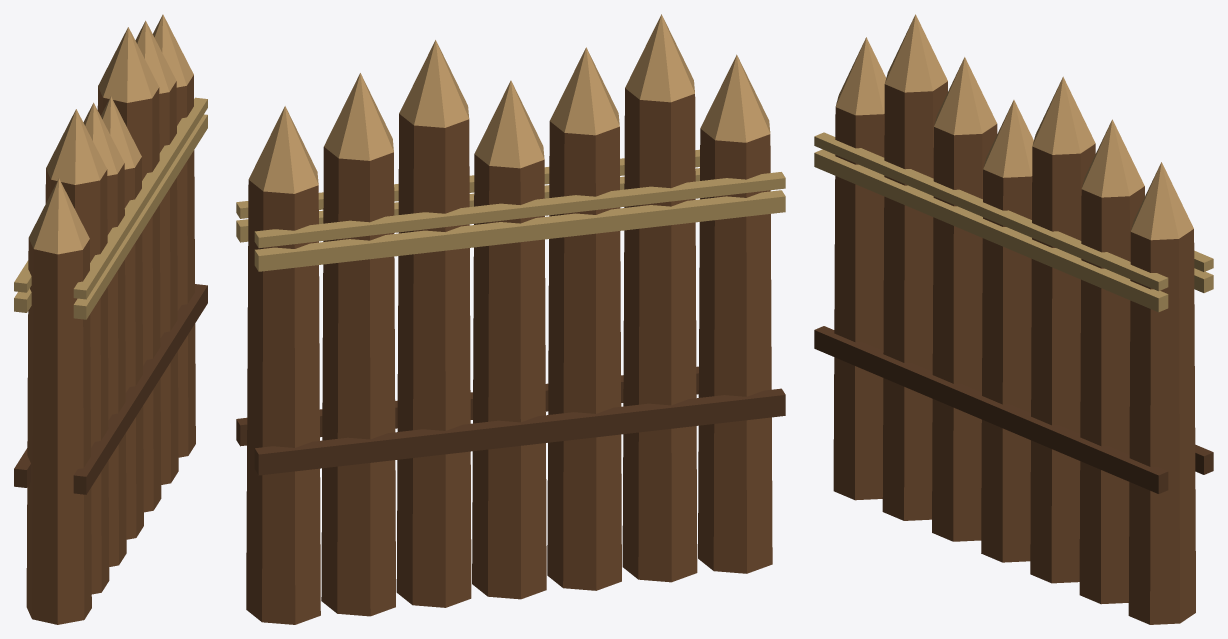
Rendered from palisade_diagonal.glb.
3 views of the same model, side by side, from view 1: azimuth 30°, elevation 25°; view 2: azimuth 150°, elevation 25°; view 3: azimuth 270°, elevation 25° (orthographic). The views are drawn at different scales.
Visible parts, largest first — view 1: wall_palisade_diagonal; view 2: wall_palisade_diagonal; view 3: wall_palisade_diagonal.
Part boxes in pixels (x1,y1,x2,y2): wall_palisade_diagonal: (14, 14, 207, 624); wall_palisade_diagonal: (236, 14, 785, 624); wall_palisade_diagonal: (814, 14, 1213, 624).
Bounding box in the file's own units: 2.32 × 3.16 × 2.32.
